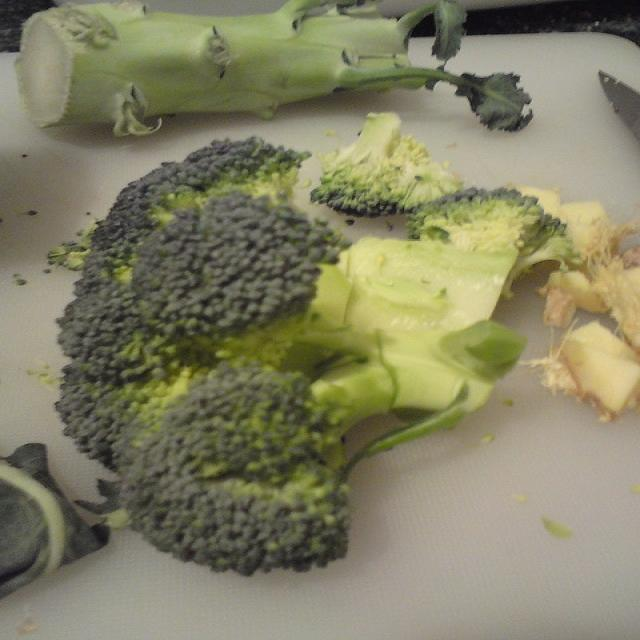broccoli: (58, 136, 568, 580)
